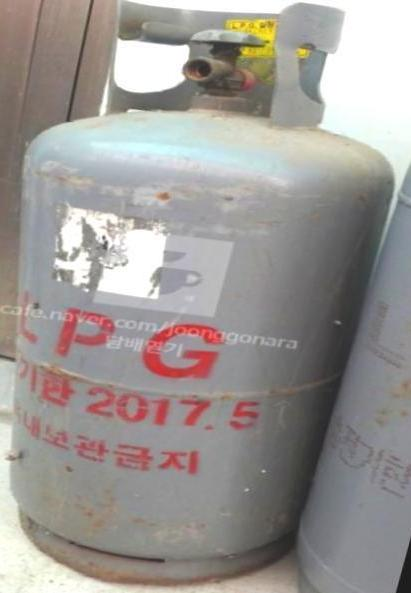cylinder: (1, 0, 411, 593)
